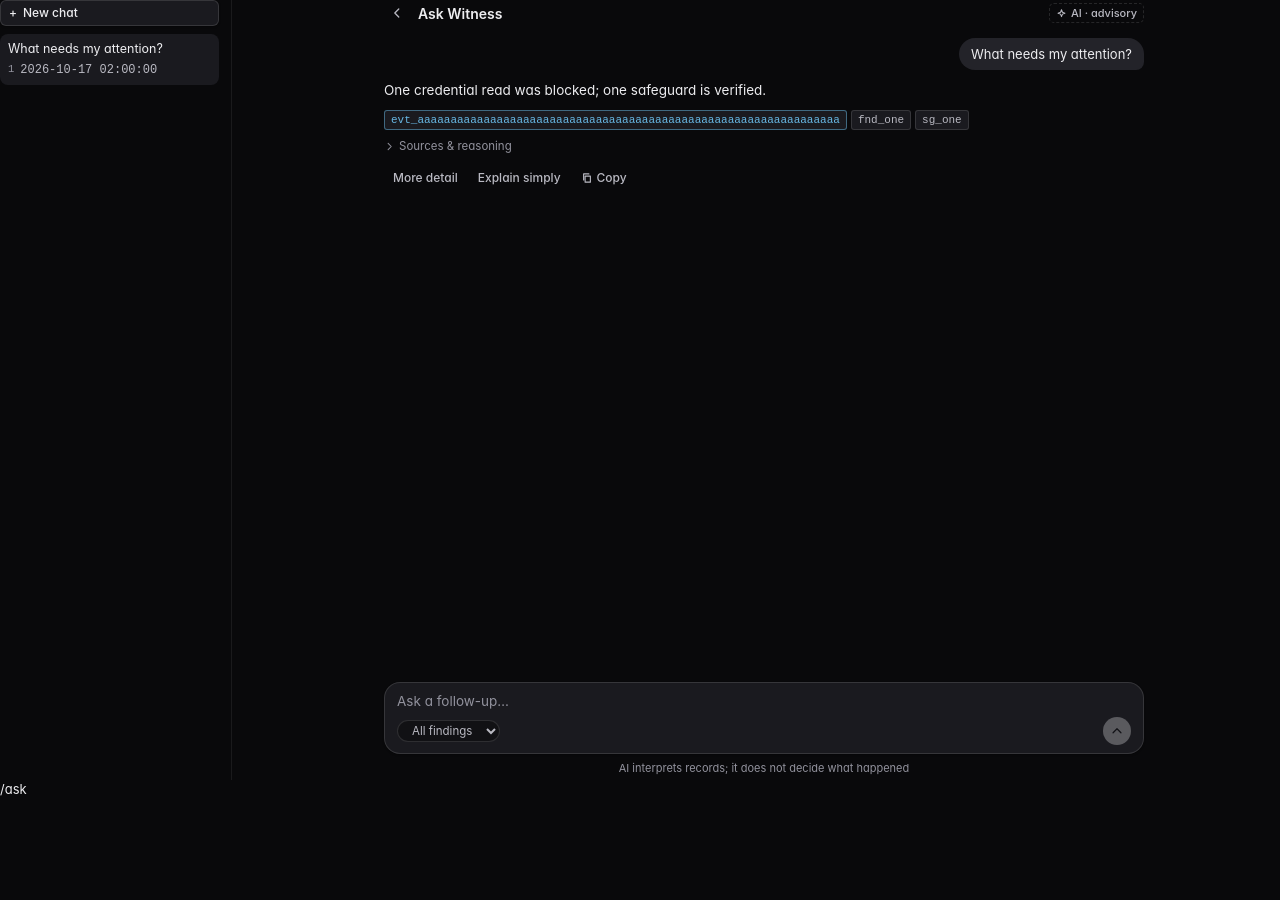
Scenario: AskWitnessPage › citations open the evidence inspector for events and navigate to safeguard pages
The image size is (1280, 900).
Expected: the text "One credential read was blocked; one safeguard is verified." is shown, x1=384 y1=82 x2=766 y2=98
Click the button with aria-label "event · observed: open .env denied". click: [615, 120]
box: x1=384 y1=110 x2=847 y2=130
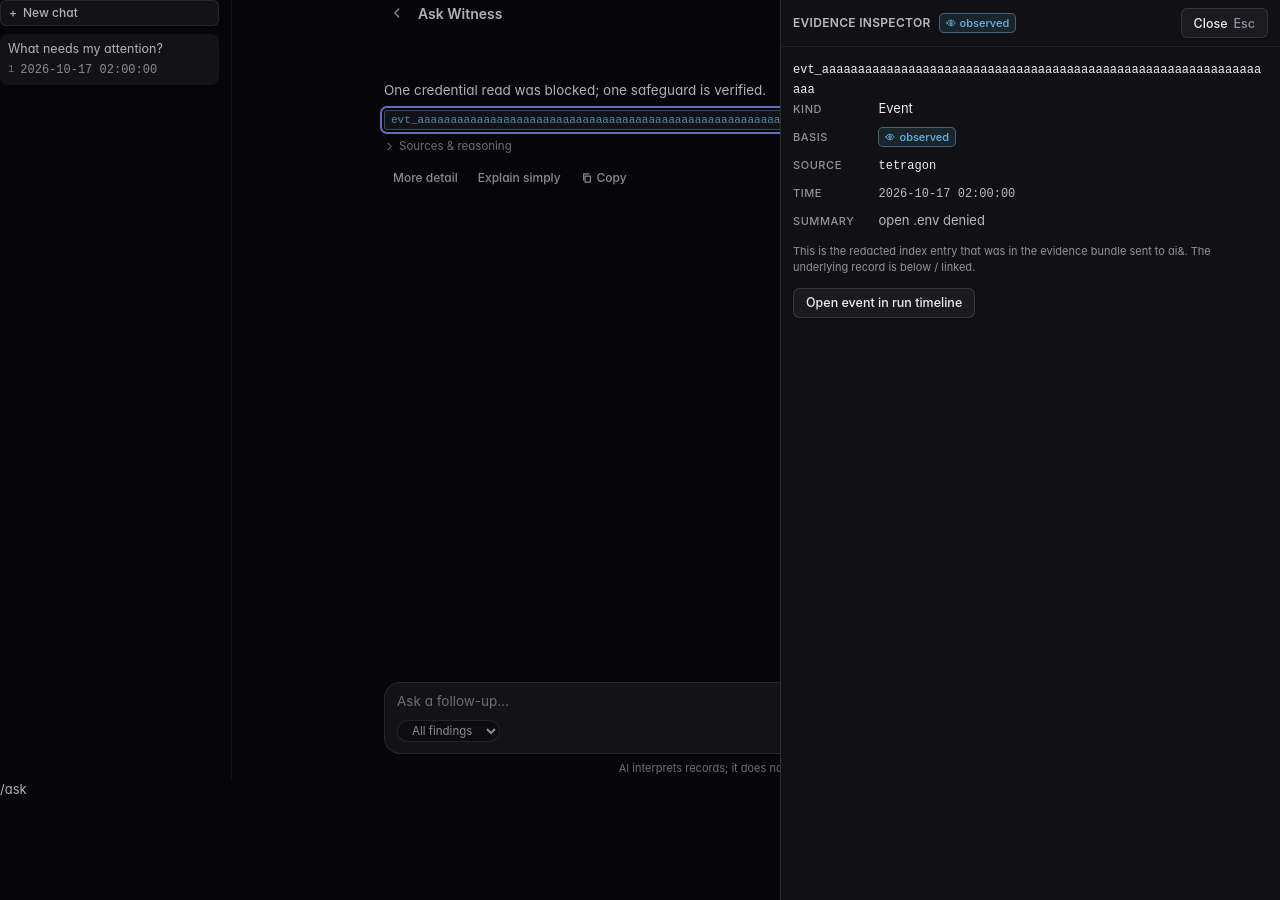
Click the button "Close Esc". click: [1224, 23]
box: x1=1181 y1=8 x2=1268 y2=38
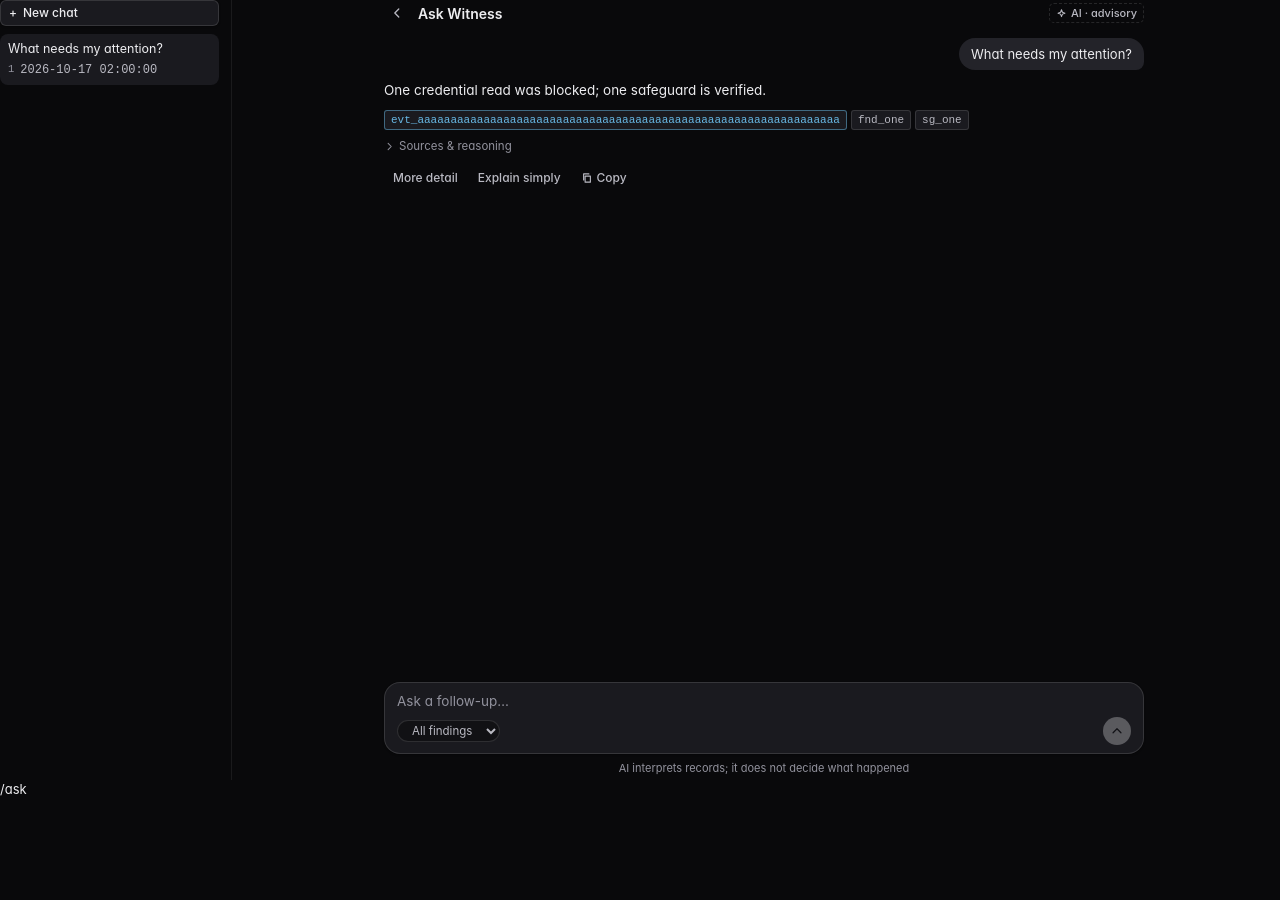
Expected: the heading "Evidence inspector" is gone
Click the button "sg_one". click: [942, 120]
box: x1=915 y1=110 x2=969 y2=130
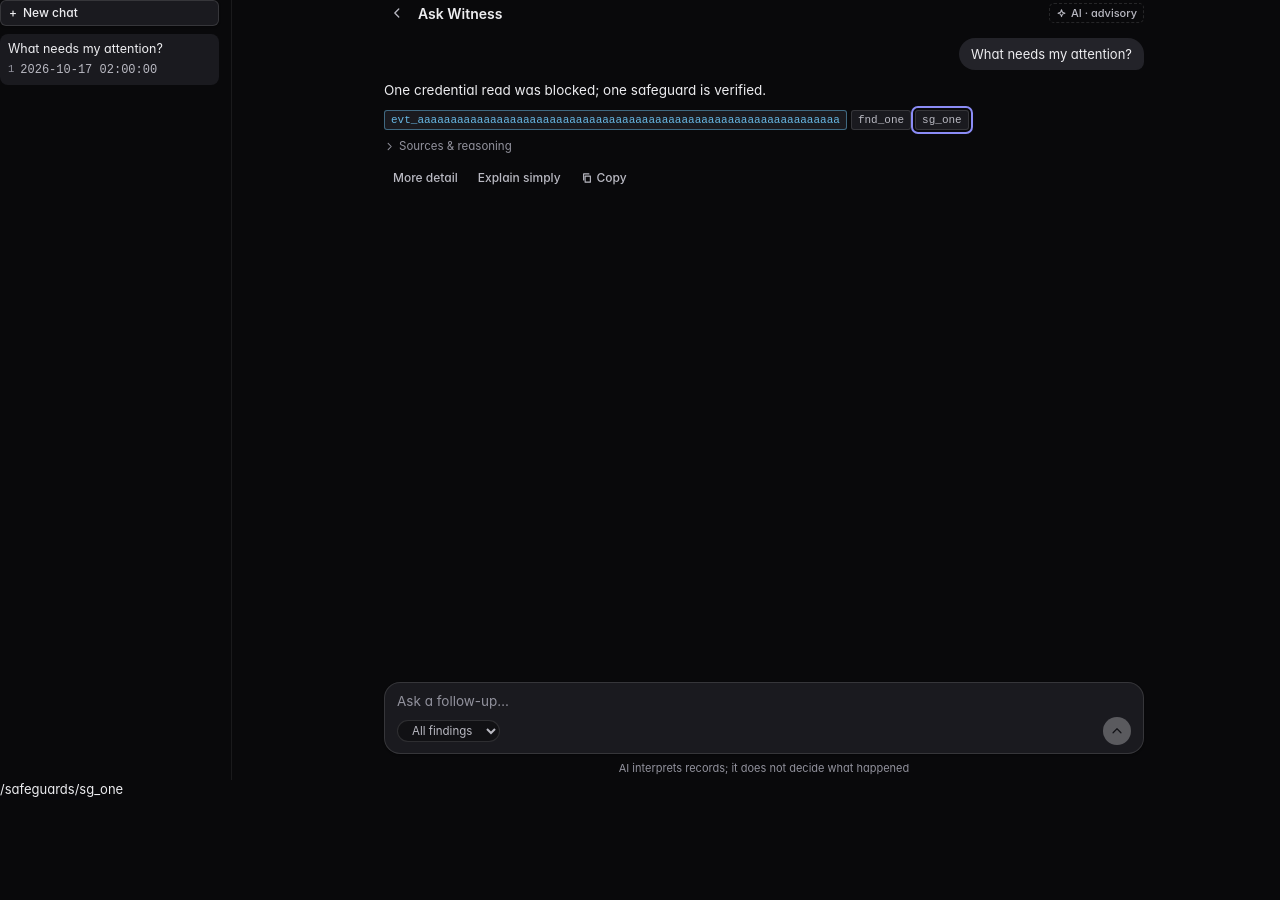
Expected: the text with test id "location" reads "/safeguards/sg_one", x1=0 y1=781 x2=123 y2=797
